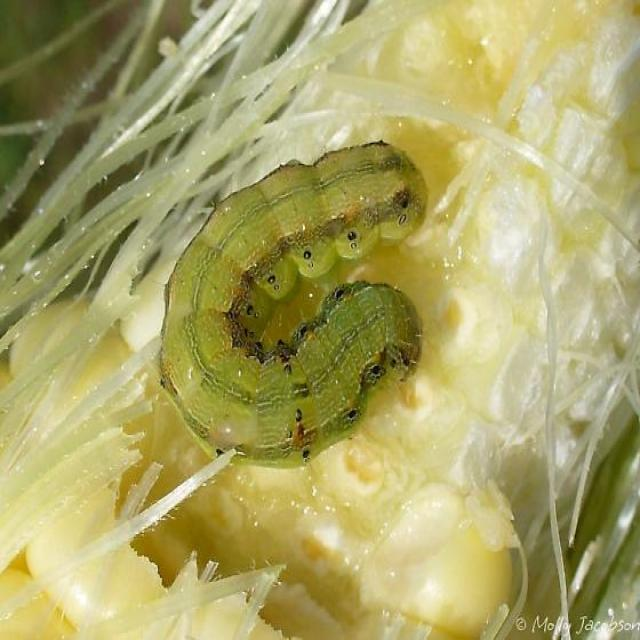worm: (159, 138, 430, 470)
